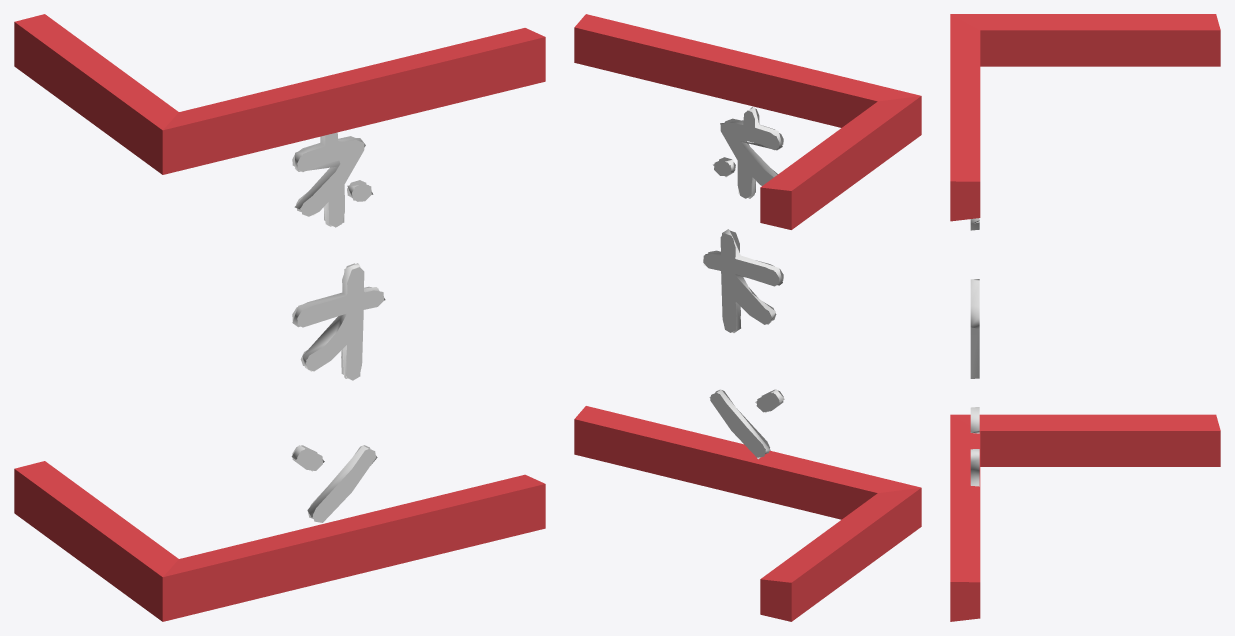
The model's file is NeonJapan.fbx.
The picture shows the model from 3 angles, left to right: view 1: azimuth 30°, elevation 25°; view 2: azimuth 150°, elevation 25°; view 3: azimuth 270°, elevation 25°; orthographic projection. The views are drawn at different scales.
Parts seen in each view (by area): view 1: Plane.023, Plane.003, Text.020; view 2: Plane.003, Plane.023, Text.020; view 3: Plane.003, Plane.023, Text.020.
Part boxes in pixels (bbox=[...]): Plane.023: bbox=[14, 461, 545, 621]; Plane.003: bbox=[14, 14, 545, 174]; Text.020: bbox=[291, 132, 385, 522]; Plane.003: bbox=[574, 14, 921, 229]; Plane.023: bbox=[574, 406, 921, 621]; Text.020: bbox=[703, 107, 784, 459]; Plane.003: bbox=[950, 14, 1220, 221]; Plane.023: bbox=[950, 414, 1220, 621]; Text.020: bbox=[970, 218, 979, 486].
Size of the model in its own units: 8.97 by 11 by 6.12.
